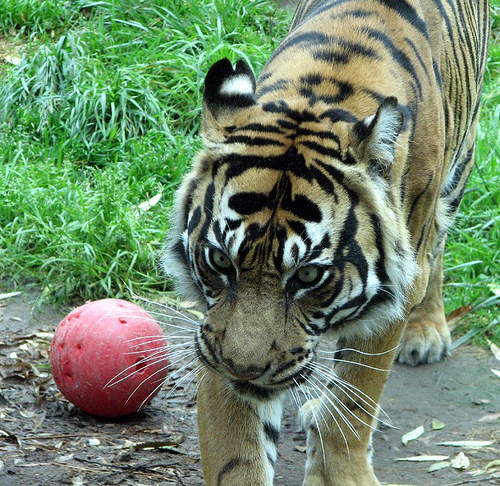Tigre: (192, 8, 459, 445)
